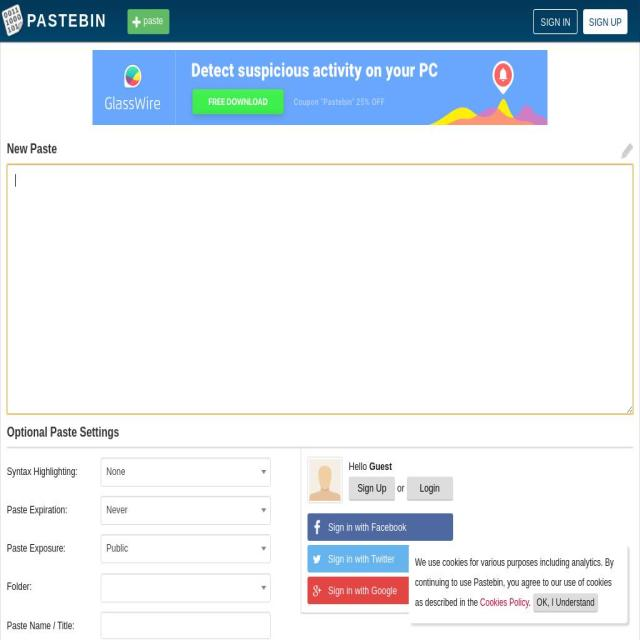button: (406, 477, 453, 501), (533, 9, 578, 34), (583, 9, 628, 34), (349, 477, 395, 501)
field: (100, 611, 270, 639)
image: (92, 50, 548, 125), (310, 459, 340, 501), (624, 144, 630, 158)
link: (480, 597, 529, 608)
text: (7, 422, 633, 448), (415, 557, 614, 608), (101, 458, 270, 486), (101, 535, 270, 563), (101, 497, 270, 524), (308, 513, 453, 541), (308, 545, 453, 573), (308, 577, 453, 604), (0, 4, 107, 38), (7, 456, 101, 486), (7, 495, 101, 525), (7, 534, 101, 564), (7, 572, 101, 602), (7, 610, 101, 640), (533, 594, 598, 612), (127, 9, 169, 34), (7, 142, 57, 156), (369, 460, 392, 472), (349, 460, 369, 472), (395, 482, 407, 494), (528, 597, 533, 608)
